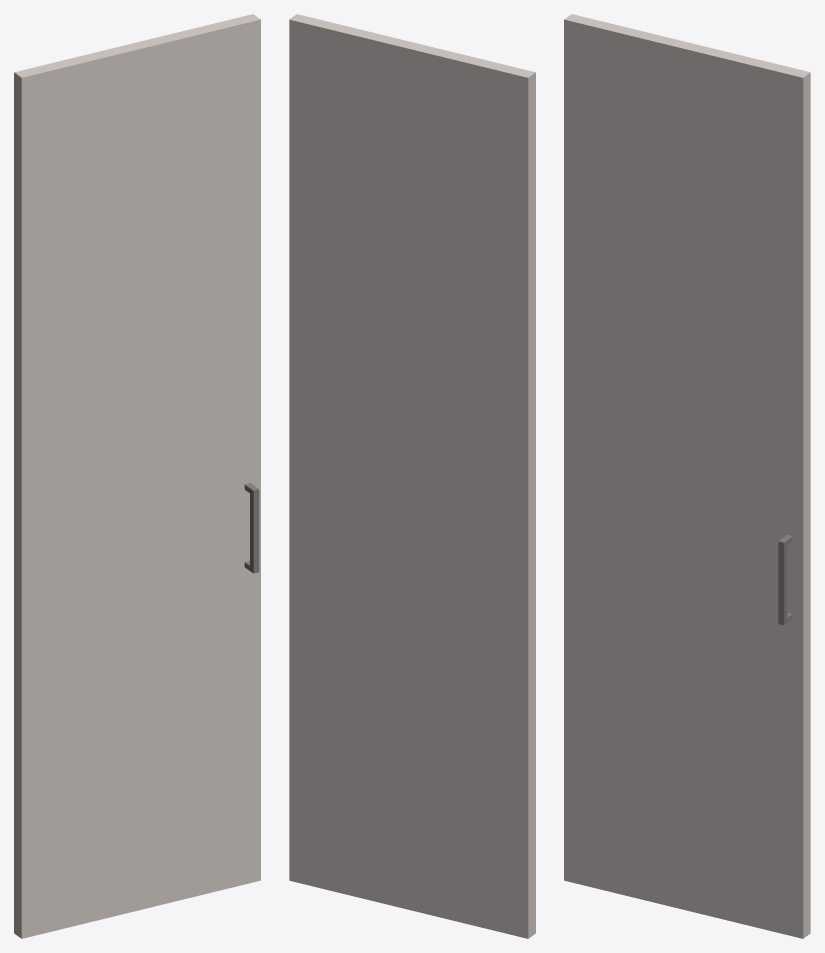
File: Cupboard_04_02.fbx
3 views of the same model, side by side, from view 1: azimuth 30°, elevation 25°; view 2: azimuth 150°, elevation 25°; view 3: azimuth 330°, elevation 25° (orthographic).
Visible parts, largest first — view 1: Cupboard_04_02; view 2: Cupboard_04_02; view 3: Cupboard_04_02.
Part boxes in pixels (x1,y1,x2,y2): Cupboard_04_02: (14, 14, 260, 938); Cupboard_04_02: (289, 14, 535, 938); Cupboard_04_02: (564, 14, 810, 938).
Bounding box in the file's own units: 57.64 × 198 × 6.86.
